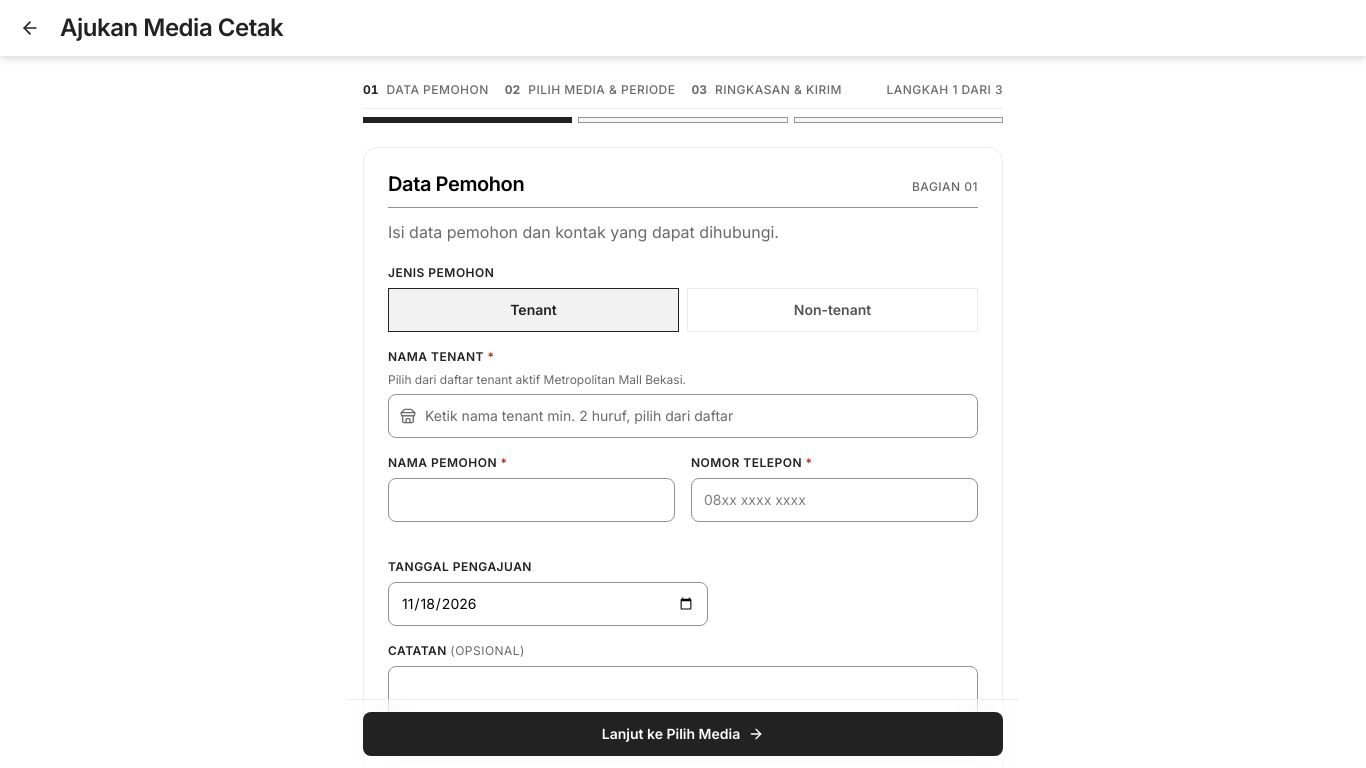
Test: PromoCetakWizard — langkah 1 (pemohon) › memilih Non-tenant memunculkan field Nama Non Tenant
This screenshot has width=1366, height=768.
Expected: the field labelled "Nama Non Tenant" is not shown
Click the button "Non-tenant" at (832, 310), box [687,288,978,332]
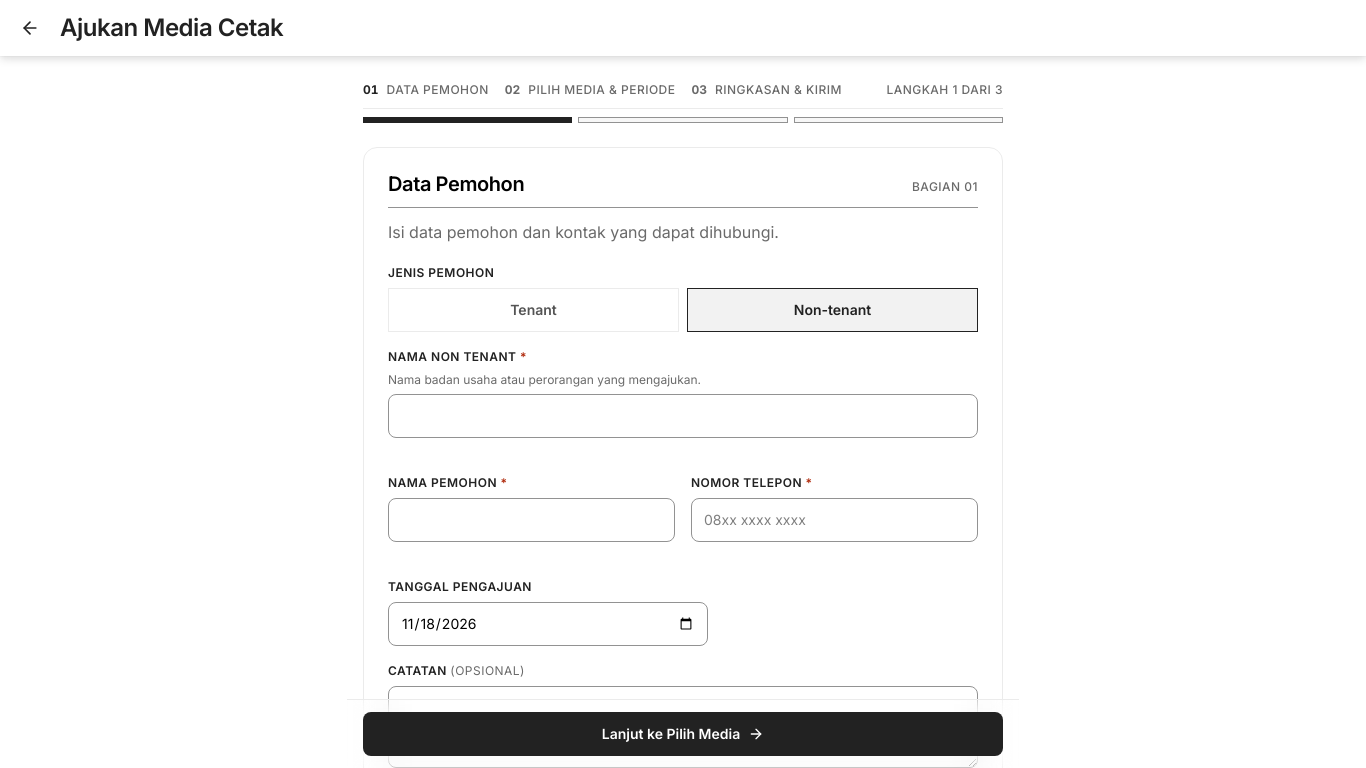
Result: the field labelled "Nama Non Tenant *" is shown at [388,394,978,438]
